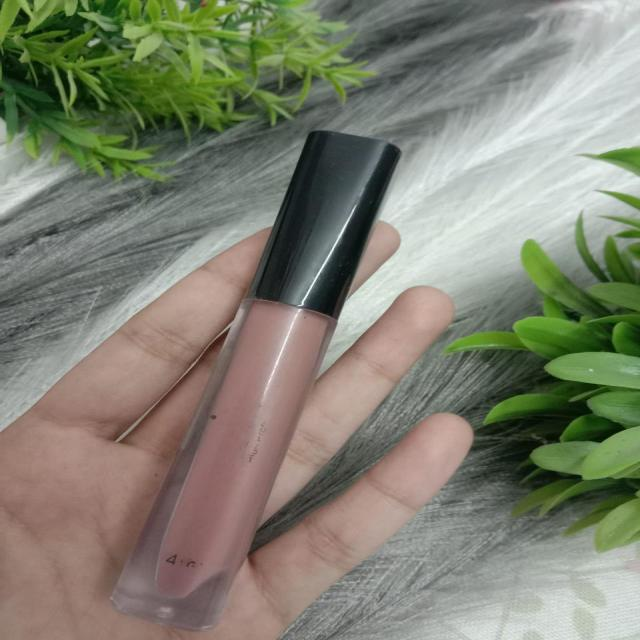lip gloss: (79, 112, 432, 637)
